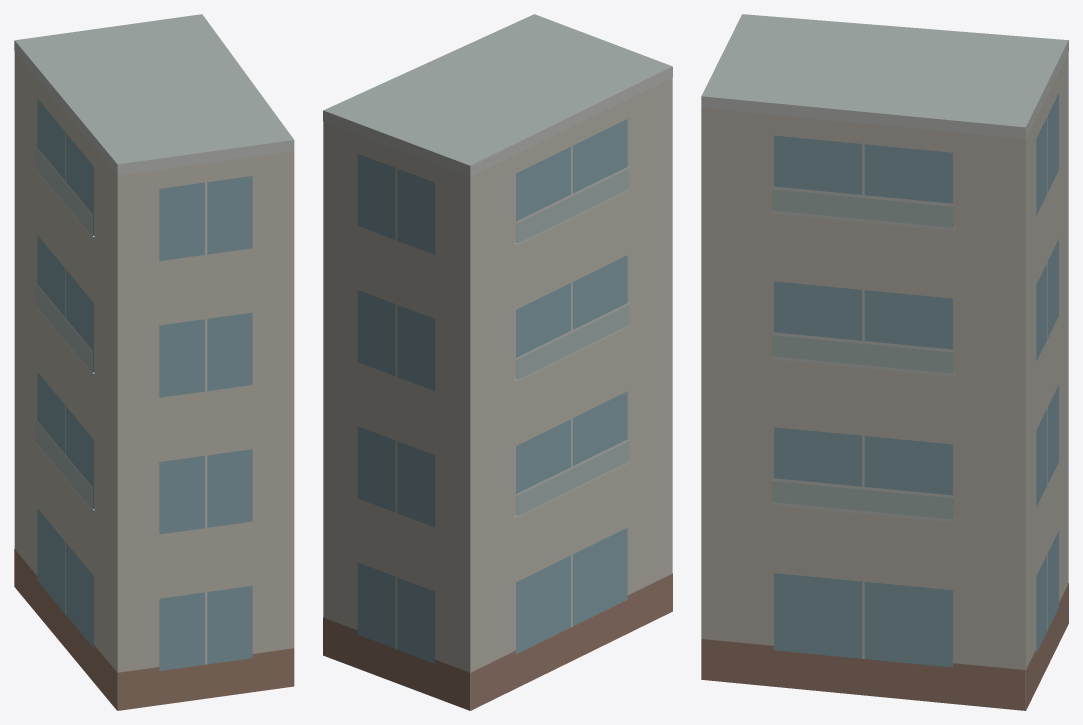
File: survey-upis-32458534.glb
3 renders of one model, left to right at view 1: azimuth 30°, elevation 25°; view 2: azimuth 150°, elevation 25°; view 3: azimuth 270°, elevation 25°, orthographic. The views are drawn at different scales.
Visible parts, largest first — view 1: survey-upis-32458534.tmp; view 2: survey-upis-32458534.tmp; view 3: survey-upis-32458534.tmp.
Part boxes in pixels (left/top/right/bottom): survey-upis-32458534.tmp: left=14, top=14, right=294, bottom=710; survey-upis-32458534.tmp: left=323, top=14, right=672, bottom=710; survey-upis-32458534.tmp: left=701, top=14, right=1068, bottom=710.
Bounding box in the file's own units: 5.1 × 12.2 × 6.97.
